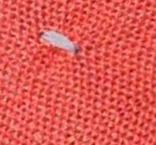hole: (34, 26, 80, 56)
